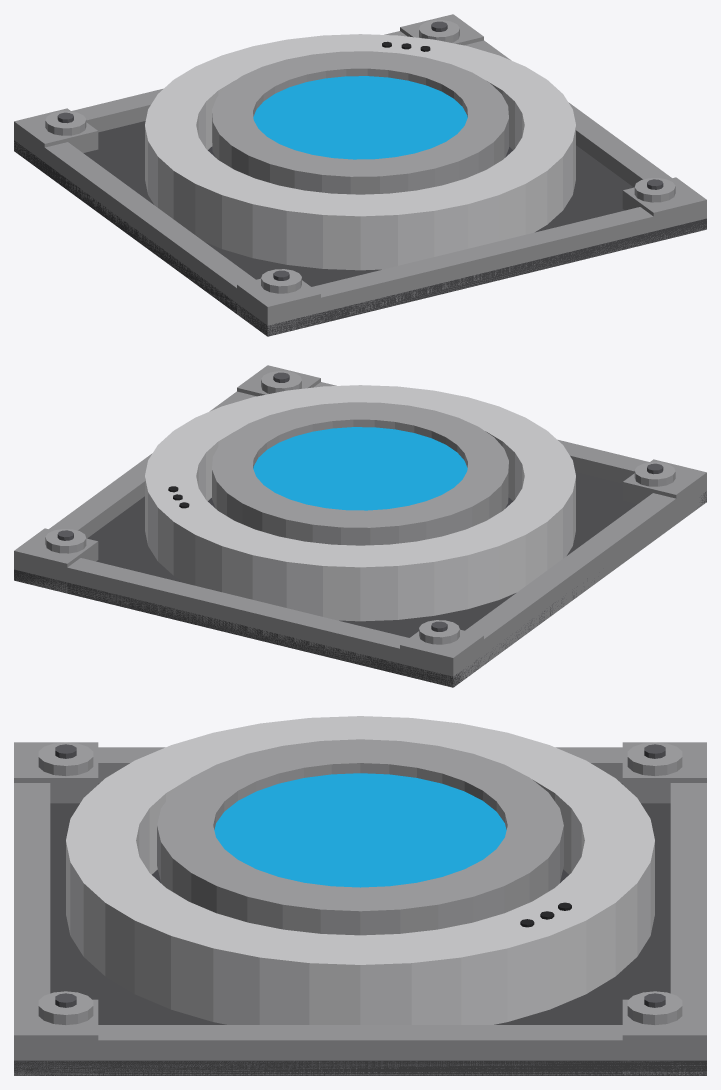
File: vge_gravhulk_engine.obj
3 views of the same model, one above another, from view 1: azimuth 30°, elevation 25°; view 2: azimuth 150°, elevation 25°; view 3: azimuth 270°, elevation 25° (orthographic). The views are drawn at different scales.
Parts seen in each view (by area): view 1: vge_gravhulk_engine_18, vge_gravhulk_engine_19, vge_gravhulk_engine_0, vge_gravhulk_engine_20, vge_gravhulk_engine_1, vge_gravhulk_engine_3, vge_gravhulk_engine_4, vge_gravhulk_engine_2, vge_gravhulk_engine_6, vge_gravhulk_engine_5, vge_gravhulk_engine_7, vge_gravhulk_engine_8 (+4 smaller); view 2: vge_gravhulk_engine_18, vge_gravhulk_engine_19, vge_gravhulk_engine_2, vge_gravhulk_engine_20, vge_gravhulk_engine_0, vge_gravhulk_engine_3, vge_gravhulk_engine_4, vge_gravhulk_engine_1, vge_gravhulk_engine_8, vge_gravhulk_engine_5, vge_gravhulk_engine_6, vge_gravhulk_engine_7 (+4 smaller); view 3: vge_gravhulk_engine_18, vge_gravhulk_engine_19, vge_gravhulk_engine_0, vge_gravhulk_engine_20, vge_gravhulk_engine_4, vge_gravhulk_engine_1, vge_gravhulk_engine_2, vge_gravhulk_engine_7, vge_gravhulk_engine_8, vge_gravhulk_engine_5, vge_gravhulk_engine_6, vge_gravhulk_engine_3 (+4 smaller).
Boxes of the visible parts, <box> form: vge_gravhulk_engine_18: <box>145,34,575,270</box>; vge_gravhulk_engine_19: <box>212,51,508,194</box>; vge_gravhulk_engine_0: <box>14,121,706,336</box>; vge_gravhulk_engine_20: <box>253,76,467,159</box>; vge_gravhulk_engine_1: <box>254,203,706,335</box>; vge_gravhulk_engine_3: <box>27,137,255,325</box>; vge_gravhulk_engine_4: <box>464,40,671,187</box>; vge_gravhulk_engine_2: <box>14,31,407,154</box>; vge_gravhulk_engine_6: <box>14,108,98,167</box>; vge_gravhulk_engine_5: <box>237,278,320,335</box>; vge_gravhulk_engine_7: <box>622,177,706,234</box>; vge_gravhulk_engine_8: <box>400,14,483,45</box>; vge_gravhulk_engine_18: <box>145,385,575,621</box>; vge_gravhulk_engine_19: <box>212,402,508,545</box>; vge_gravhulk_engine_2: <box>14,554,466,687</box>; vge_gravhulk_engine_20: <box>253,427,467,510</box>; vge_gravhulk_engine_0: <box>14,472,706,687</box>; vge_gravhulk_engine_3: <box>465,486,693,677</box>; vge_gravhulk_engine_4: <box>49,391,256,538</box>; vge_gravhulk_engine_1: <box>313,382,706,511</box>; vge_gravhulk_engine_8: <box>14,528,98,593</box>; vge_gravhulk_engine_5: <box>622,459,706,524</box>; vge_gravhulk_engine_6: <box>400,629,483,686</box>; vge_gravhulk_engine_7: <box>237,365,320,396</box>; vge_gravhulk_engine_18: <box>66,716,654,1024</box>; vge_gravhulk_engine_19: <box>157,739,563,935</box>; vge_gravhulk_engine_0: <box>14,783,706,1075</box>; vge_gravhulk_engine_20: <box>214,773,506,887</box>; vge_gravhulk_engine_4: <box>50,1025,670,1075</box>; vge_gravhulk_engine_1: <box>14,783,50,1075</box>; vge_gravhulk_engine_2: <box>670,783,706,1075</box>; vge_gravhulk_engine_7: <box>14,999,98,1075</box>; vge_gravhulk_engine_8: <box>622,999,706,1075</box>; vge_gravhulk_engine_5: <box>14,742,98,803</box>; vge_gravhulk_engine_6: <box>622,742,706,803</box>; vge_gravhulk_engine_3: <box>98,747,622,783</box>.
Size of the model in its own units: 4.94 by 0.82 by 4.94.
